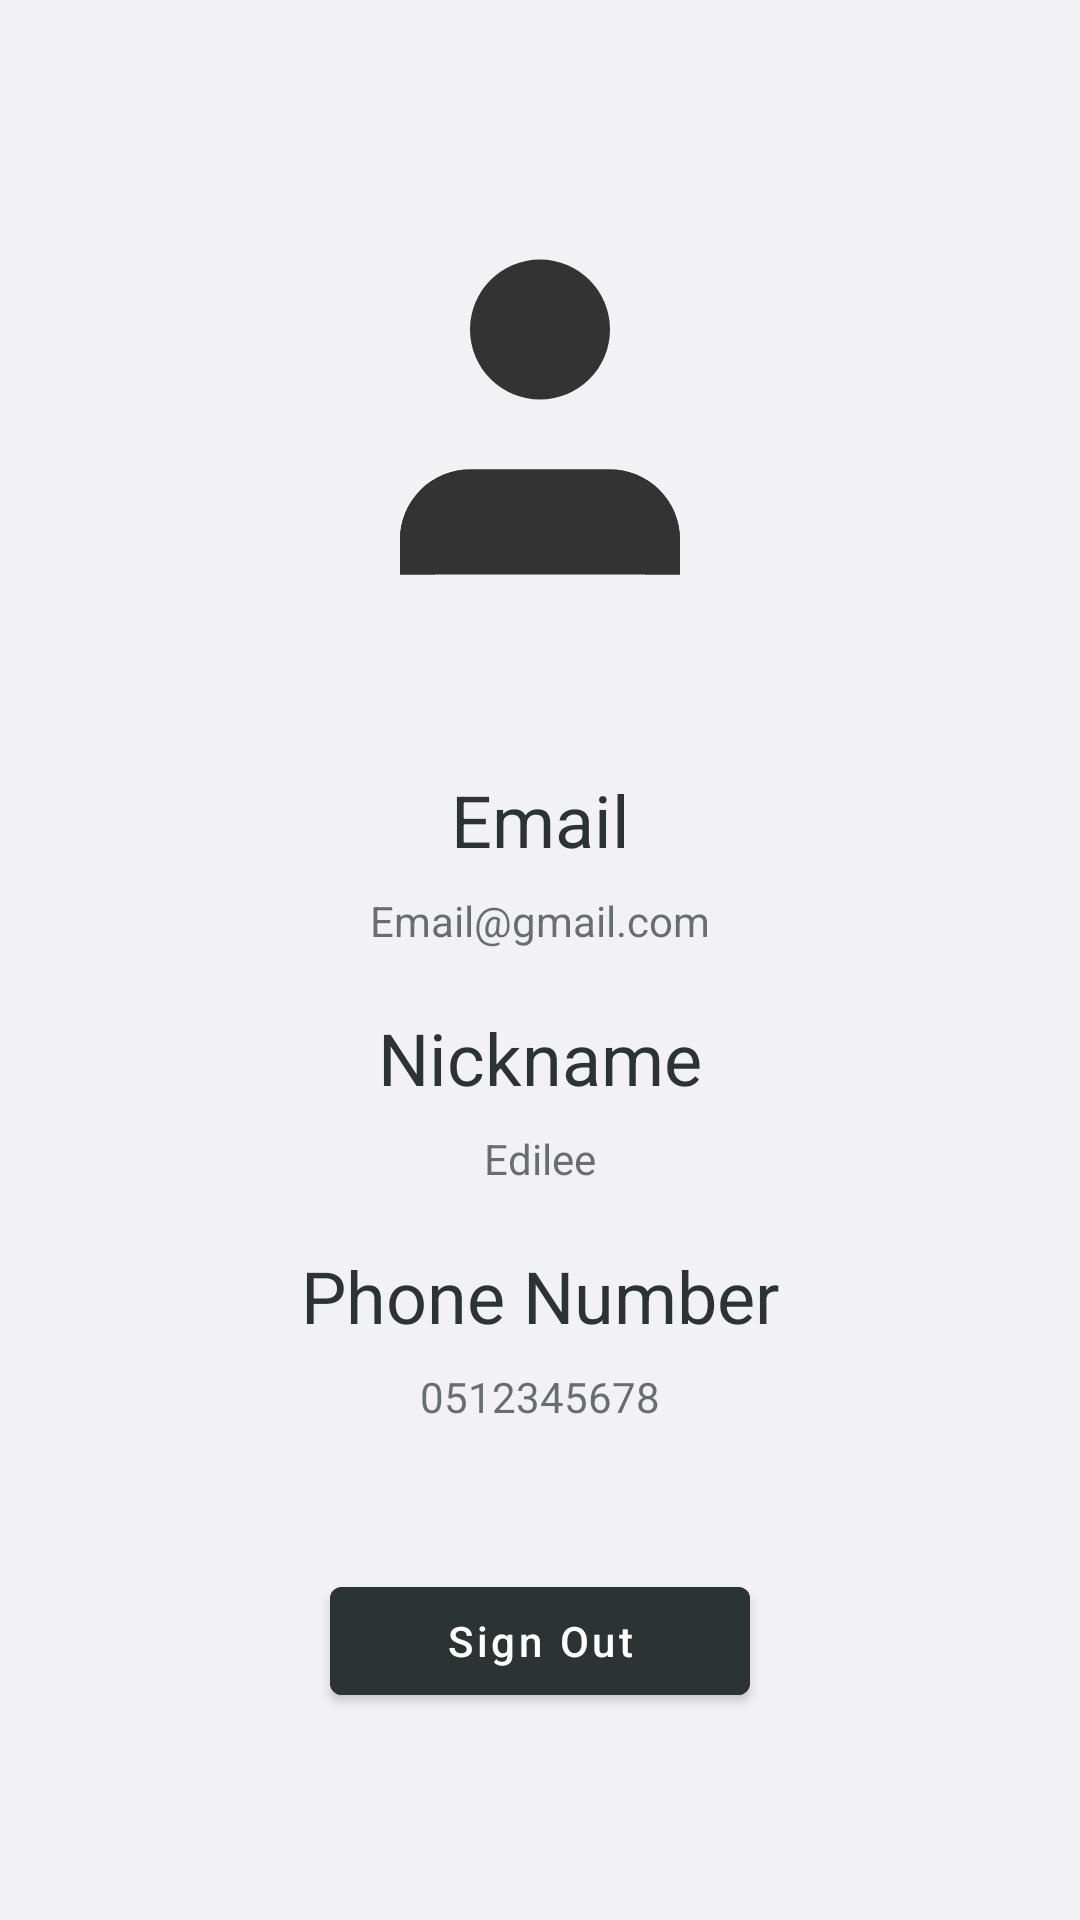

Icons on this 1080px x 1920px Android screen, each with its box as [x1, y1, x2, y2]:
profile: [400, 259, 680, 575]
